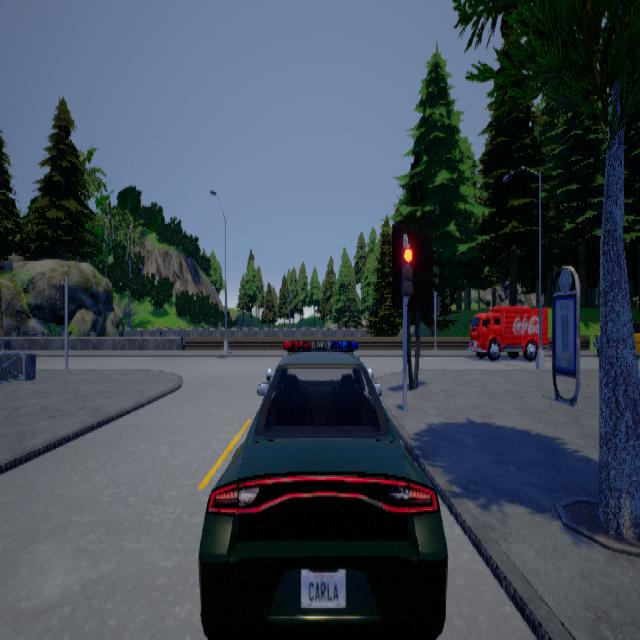red_light: (401, 236, 412, 305)
vehicle: (197, 338, 448, 638), (467, 305, 548, 357)
